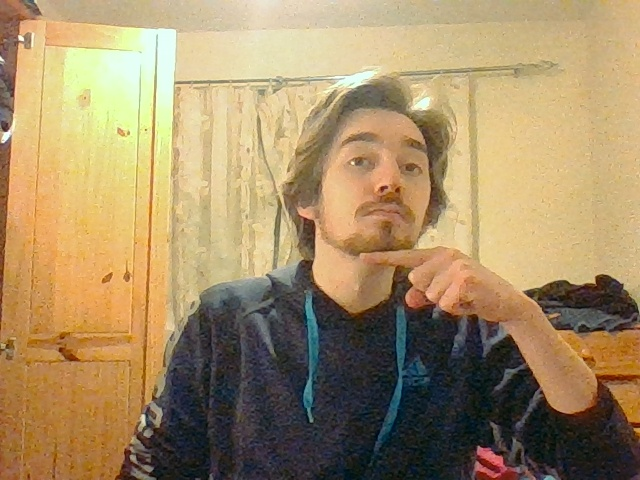son: (358, 246, 481, 313)
